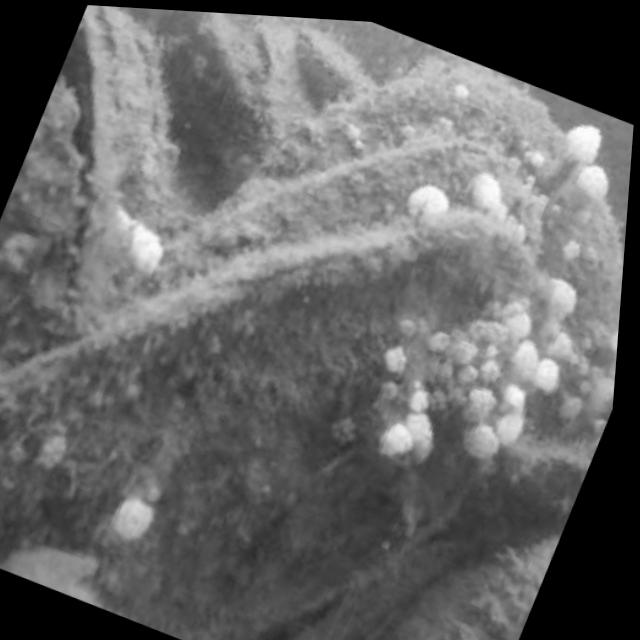Oyster-Closed: (10, 73, 75, 238), (297, 28, 380, 98), (253, 22, 314, 106)
Oyster-Indeterminate: (0, 223, 546, 640), (239, 79, 588, 293), (208, 133, 543, 270), (80, 5, 173, 215), (506, 424, 599, 512)
